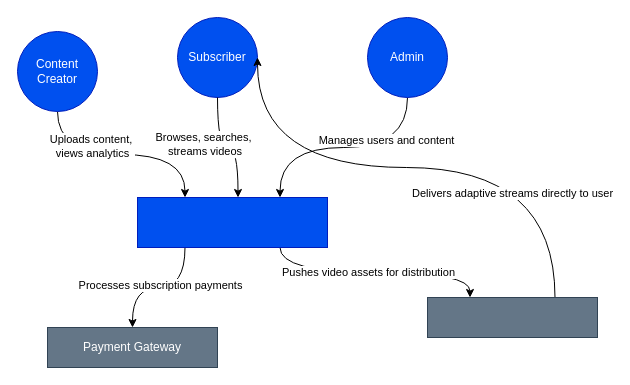
This 630x385 diagram has some shape labels left out. The box of each missing label's shape, as (x1, y1, x2, y2) in pixels:
CDN - Content Delivery Network: (426, 296, 598, 338)
Video Streaming Platforn: (136, 196, 328, 248)
